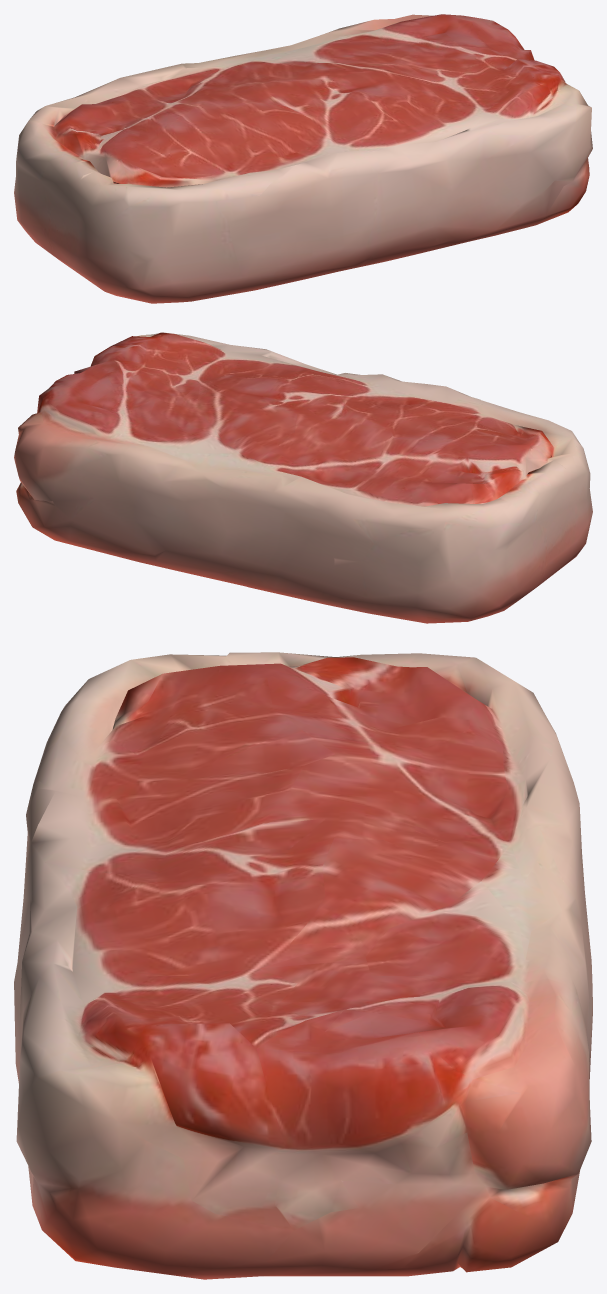
Rendered from meat_vacio.glb.
The picture shows the model from 3 angles, top to bottom: view 1: azimuth 30°, elevation 25°; view 2: azimuth 150°, elevation 25°; view 3: azimuth 270°, elevation 25°; orthographic projection. The views are drawn at different scales.
Parts seen in each view (by area): view 1: tripo_node_fbc65e4d-97e3-4fd8-b1bd-1964bc8c7095; view 2: tripo_node_fbc65e4d-97e3-4fd8-b1bd-1964bc8c7095; view 3: tripo_node_fbc65e4d-97e3-4fd8-b1bd-1964bc8c7095.
Boxes of the visible parts, x1=… form: tripo_node_fbc65e4d-97e3-4fd8-b1bd-1964bc8c7095: x1=14, y1=14, x2=592, y2=303; tripo_node_fbc65e4d-97e3-4fd8-b1bd-1964bc8c7095: x1=14, y1=332, x2=592, y2=623; tripo_node_fbc65e4d-97e3-4fd8-b1bd-1964bc8c7095: x1=14, y1=652, x2=592, y2=1279.
Size of the model in its own units: 1 by 0.2677 by 0.5592.
1 material, 1 textured.
